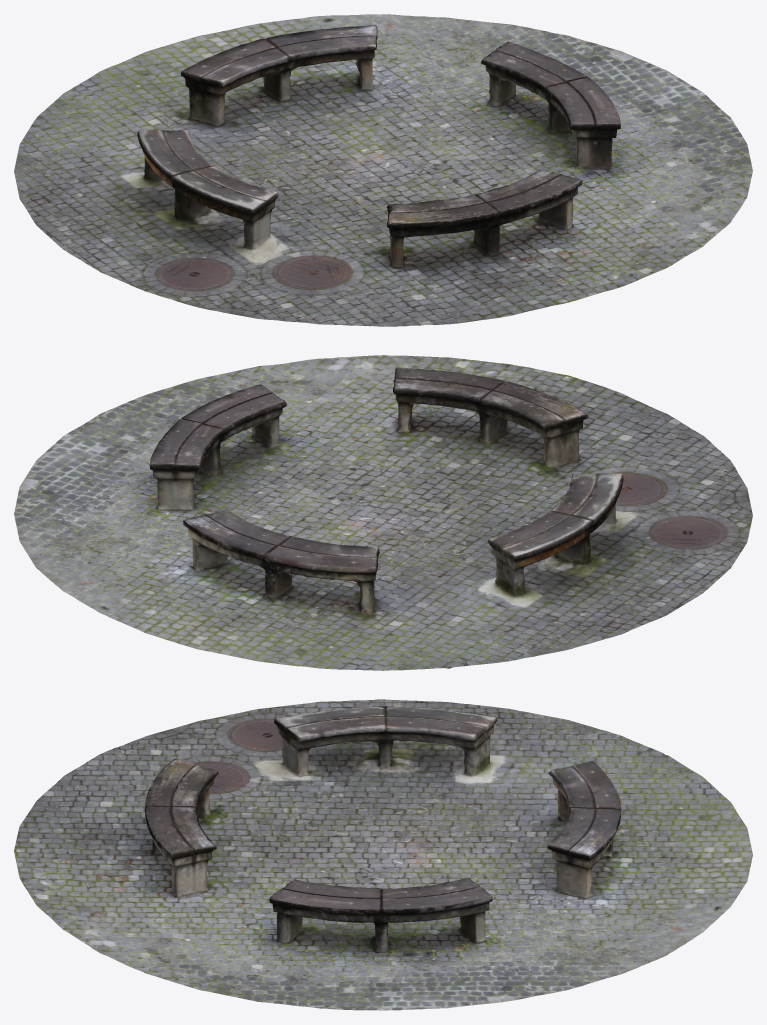
File: sf-scanned-benches-on-cobble-4d6197.glb
3 views of the same model, one above another, from view 1: azimuth 30°, elevation 25°; view 2: azimuth 150°, elevation 25°; view 3: azimuth 270°, elevation 25° (orthographic).
Parts seen in each view (by area): view 1: Object_material_0_0; view 2: Object_material_0_0; view 3: Object_material_0_0.
Part boxes in pixels (box(x1,y1,x2,y2)): Object_material_0_0: box(14, 14, 752, 326); Object_material_0_0: box(14, 355, 752, 670); Object_material_0_0: box(14, 699, 752, 1010).
Size of the model in its own units: 374 by 28.6 by 374.
Materials: 1 (1 with a texture image).
